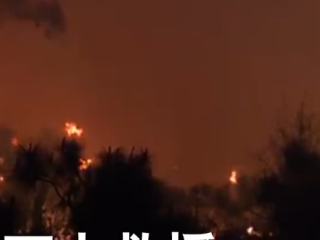fire: (56, 118, 83, 138), (75, 156, 95, 173), (225, 168, 239, 185)
smoke: (6, 6, 76, 45)
